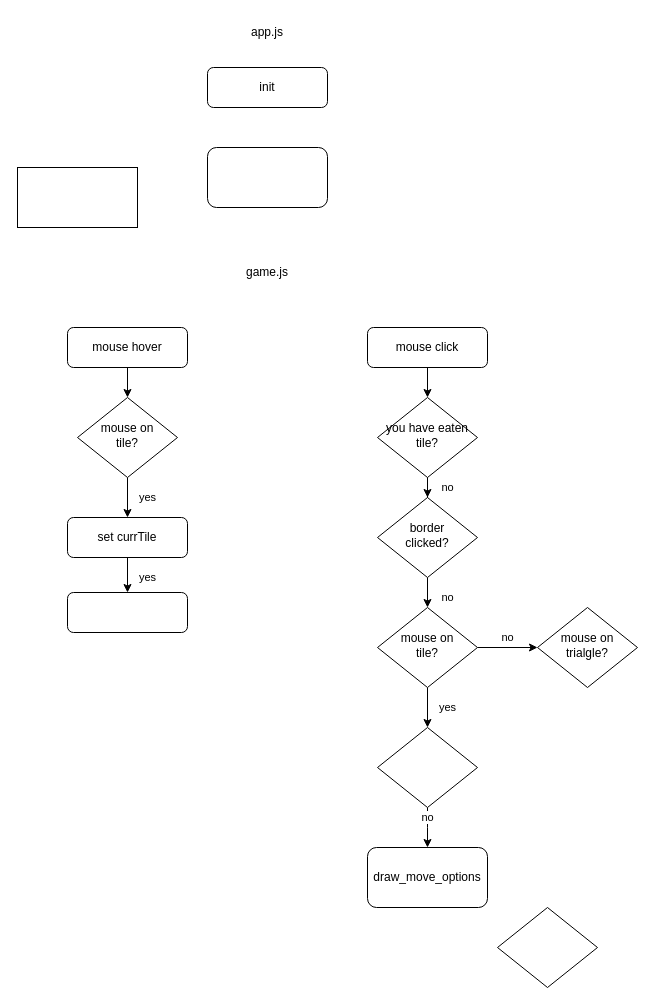
This 655x1005 diagram has some shape labels left out. Here are the shapes that lost their labels. From the top down, the box of each, then its label:
(16, 166, 138, 228): print board
(206, 146, 328, 208): init triangels
(66, 592, 188, 632): currTile glow = true
(376, 726, 478, 808): tile == currTile
(496, 906, 598, 988): checkWin
